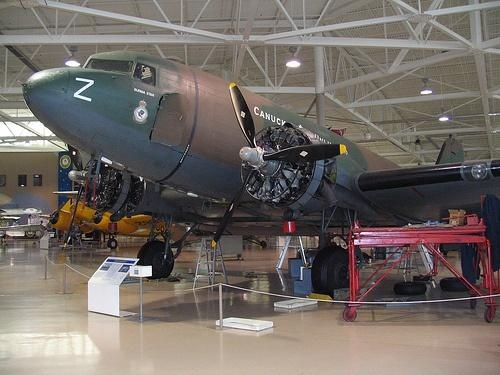aeroplane: (22, 50, 500, 298), (51, 197, 164, 249)
